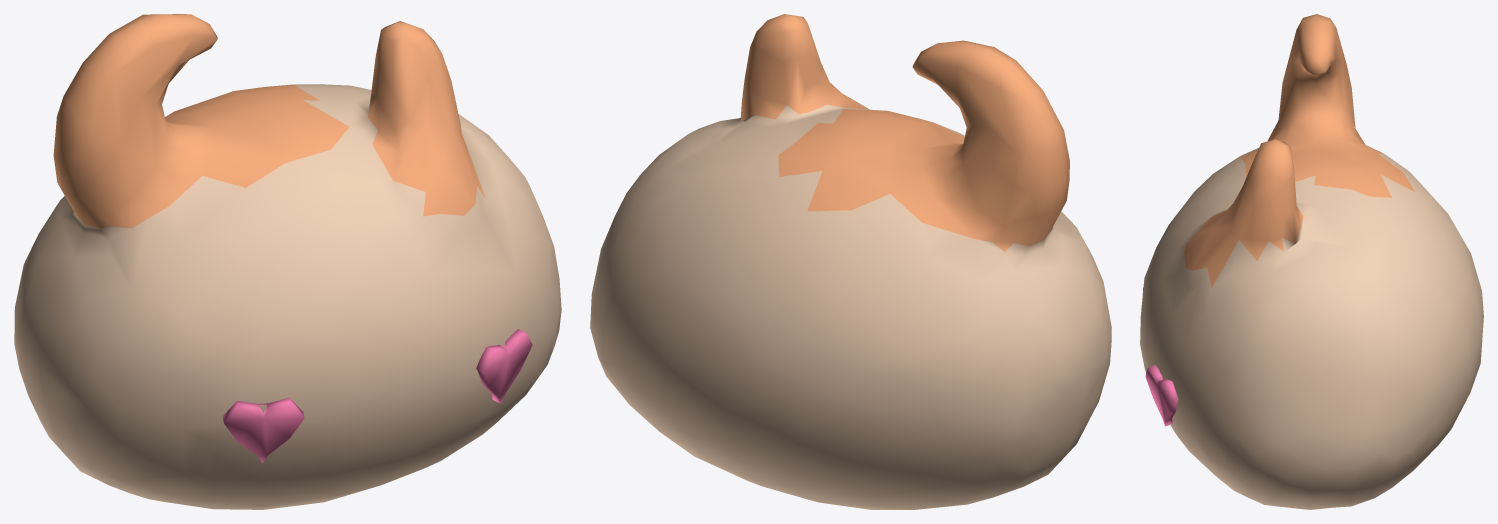
File: gloop.glb
3 views of the same model, side by side, from view 1: azimuth 30°, elevation 25°; view 2: azimuth 150°, elevation 25°; view 3: azimuth 270°, elevation 25° (orthographic). The views are drawn at different scales.
Visible parts, largest first — view 1: gloop, gloop_face; view 2: gloop; view 3: gloop, gloop_face.
Part boxes in pixels (<box>): gloop: <box>14,14,561,509</box>; gloop_face: <box>222,329,532,462</box>; gloop: <box>590,14,1111,509</box>; gloop: <box>1140,14,1483,509</box>; gloop_face: <box>1142,288,1178,426</box>.
Size of the model in its own units: 0.8498 by 0.8 by 0.6281.
